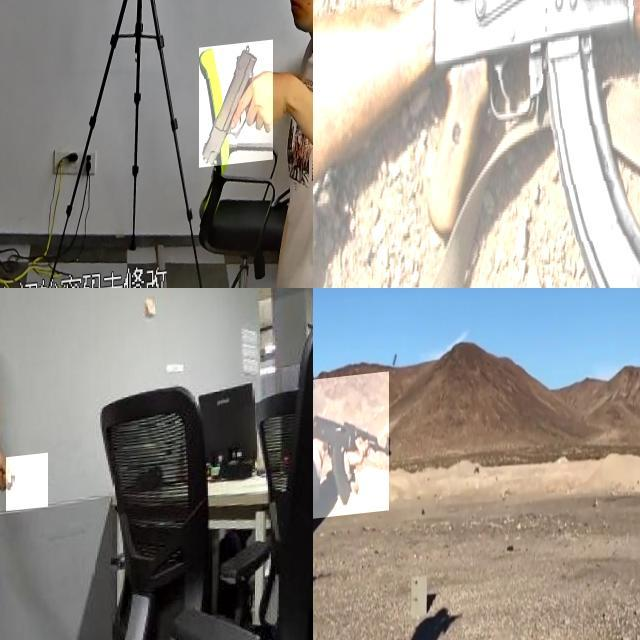-: (6, 459, 48, 517)
gun-knife-thesis - v11 Yolov5 augmented: (313, 0, 640, 288), (313, 376, 389, 524), (199, 50, 273, 176)
